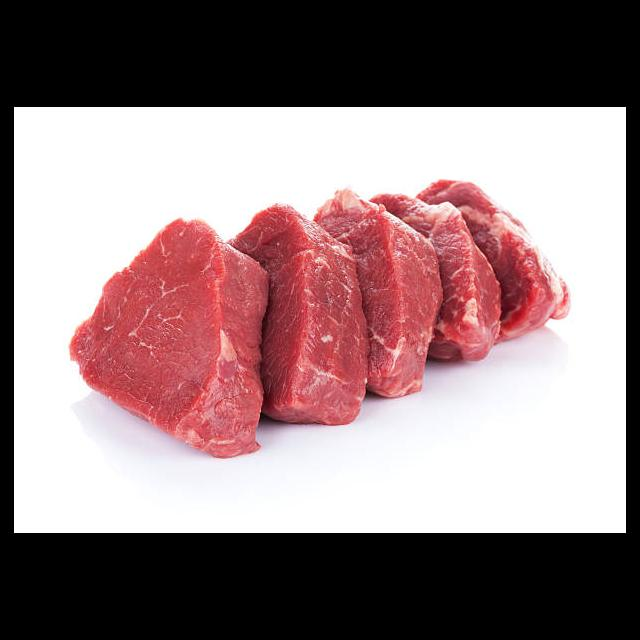beef: (69, 178, 573, 459)
